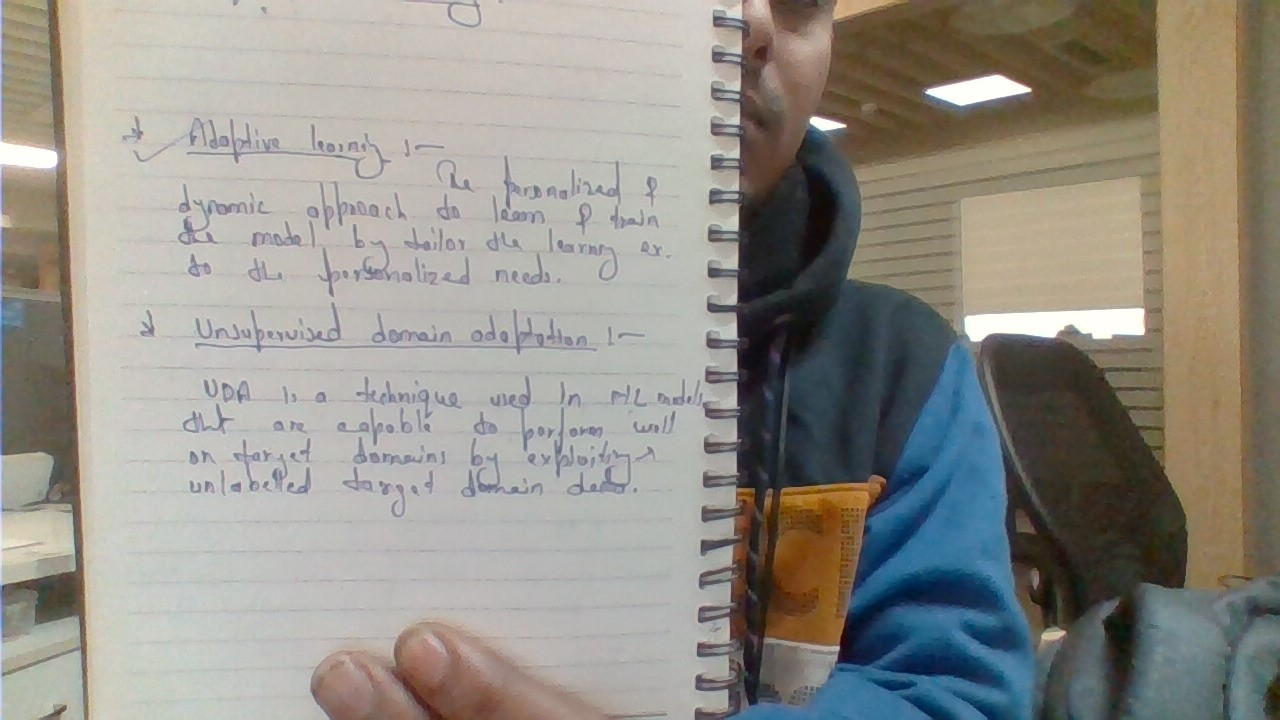partial: (44, 1, 752, 719)
